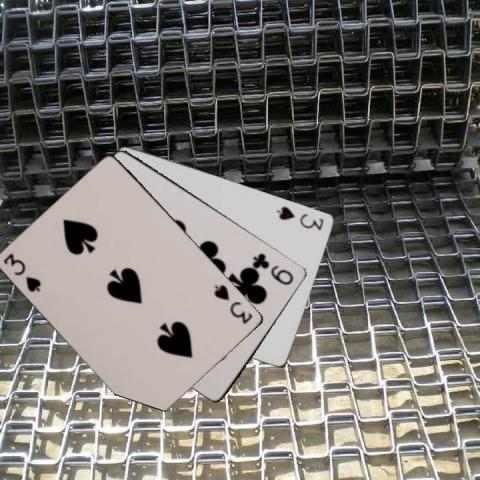3s: (211, 282, 255, 326), (1, 250, 43, 294), (274, 203, 325, 231)
9c: (250, 249, 295, 286)
